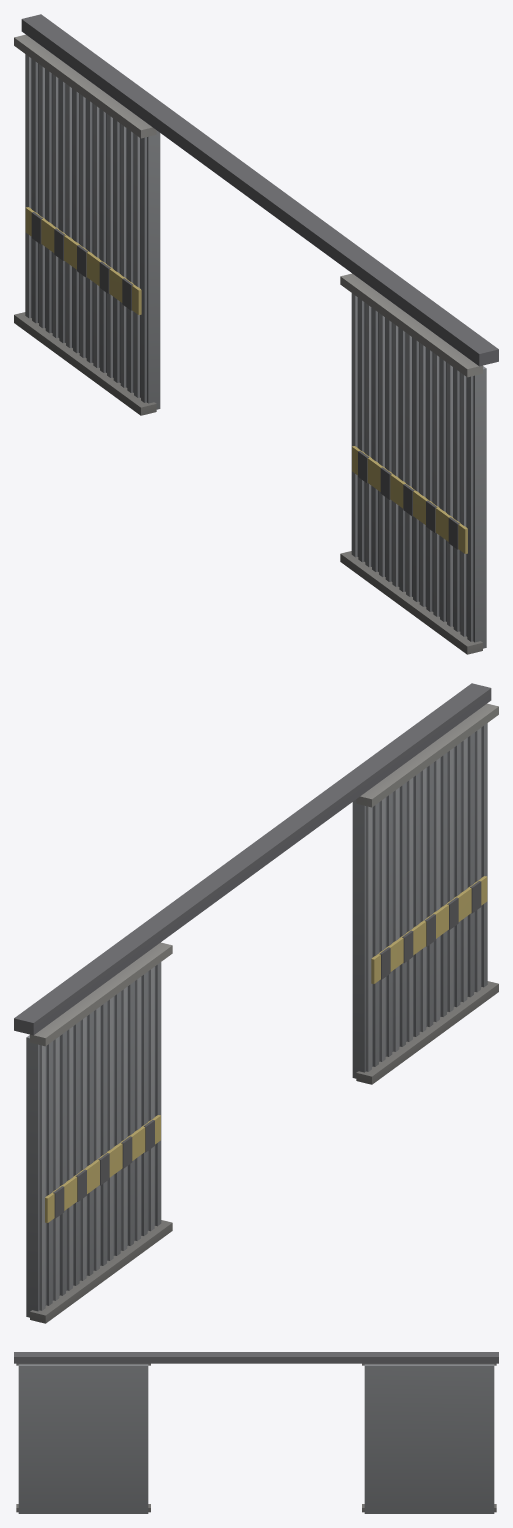
File: mil_hangar_doors.glb
3 views of the same model, one above another, from view 1: azimuth 30°, elevation 25°; view 2: azimuth 150°, elevation 25°; view 3: azimuth 270°, elevation 25° (orthographic). The views are drawn at different scales.
Visible parts, largest first — view 1: mil_hangar_doors; view 2: mil_hangar_doors; view 3: mil_hangar_doors.
Part boxes in pixels (box(x1,y1,x2,y2)): mil_hangar_doors: box(14, 14, 498, 654); mil_hangar_doors: box(14, 683, 498, 1323); mil_hangar_doors: box(14, 1352, 498, 1513).
Bounding box in the file's own units: 0.75 × 7.3 × 20.2.
